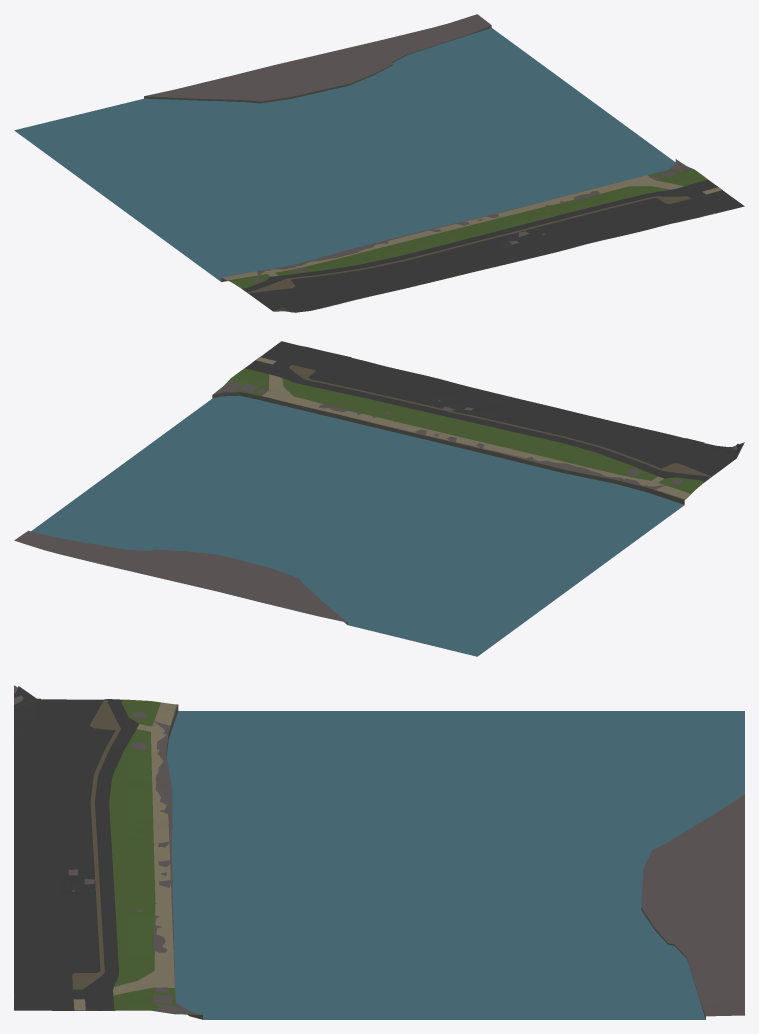
3 renders of one model, top to bottom at view 1: azimuth 30°, elevation 25°; view 2: azimuth 150°, elevation 25°; view 3: azimuth 270°, elevation 25°, orthographic. The views are drawn at different scales.
Parts seen in each view (by area): view 1: c_p01_m07; view 2: c_p01_m07; view 3: c_p01_m07.
Part boxes in pixels (left/top/right/bottom): c_p01_m07: left=14, top=14, right=744, bottom=312; c_p01_m07: left=14, top=341, right=744, bottom=656; c_p01_m07: left=14, top=685, right=744, bottom=1019.
Size of the model in its own units: 128 by 4.99 by 128.
